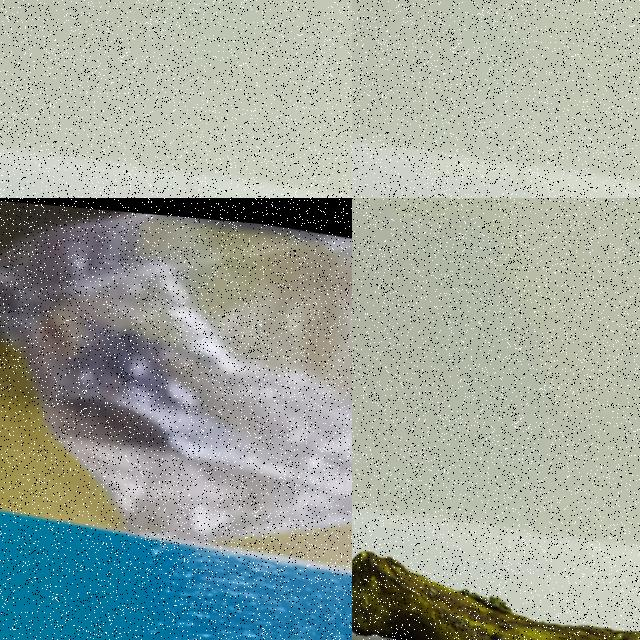Flat_cocoabeans: (352, 495, 639, 639), (352, 137, 639, 197), (0, 154, 351, 197)
